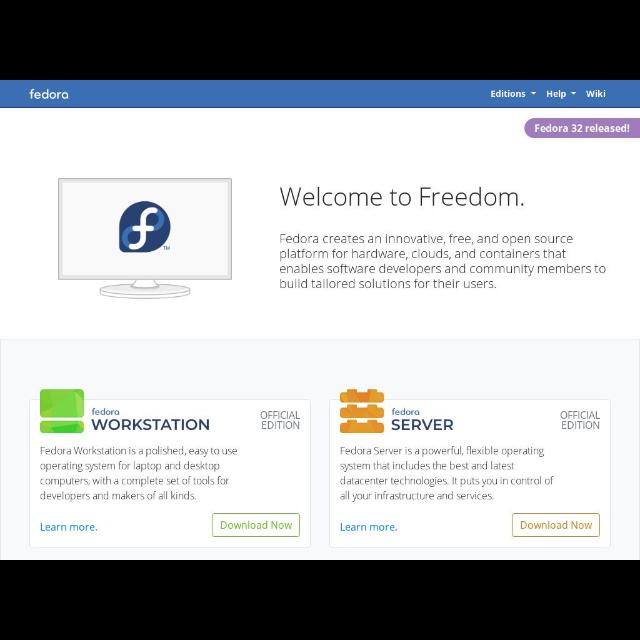icon: (530, 91, 536, 95), (570, 91, 576, 95)
image: (54, 175, 238, 303), (338, 388, 386, 436), (38, 389, 86, 435)
multitab: (489, 88, 611, 102)
panel: (328, 398, 614, 552), (28, 398, 312, 550)
spinner: (490, 90, 536, 98), (545, 90, 577, 100)
text: (280, 232, 606, 290), (339, 446, 557, 504), (39, 443, 239, 503), (276, 187, 524, 209), (90, 418, 212, 430), (390, 417, 454, 433), (534, 124, 632, 134), (218, 520, 294, 532), (519, 519, 593, 531), (260, 410, 302, 430), (560, 410, 602, 430), (39, 522, 99, 534), (28, 86, 68, 102), (339, 522, 399, 532), (392, 406, 421, 416), (491, 90, 527, 98), (92, 406, 120, 416), (584, 89, 608, 99), (546, 90, 566, 100)
textbutton: (210, 512, 302, 540), (511, 512, 602, 538)
